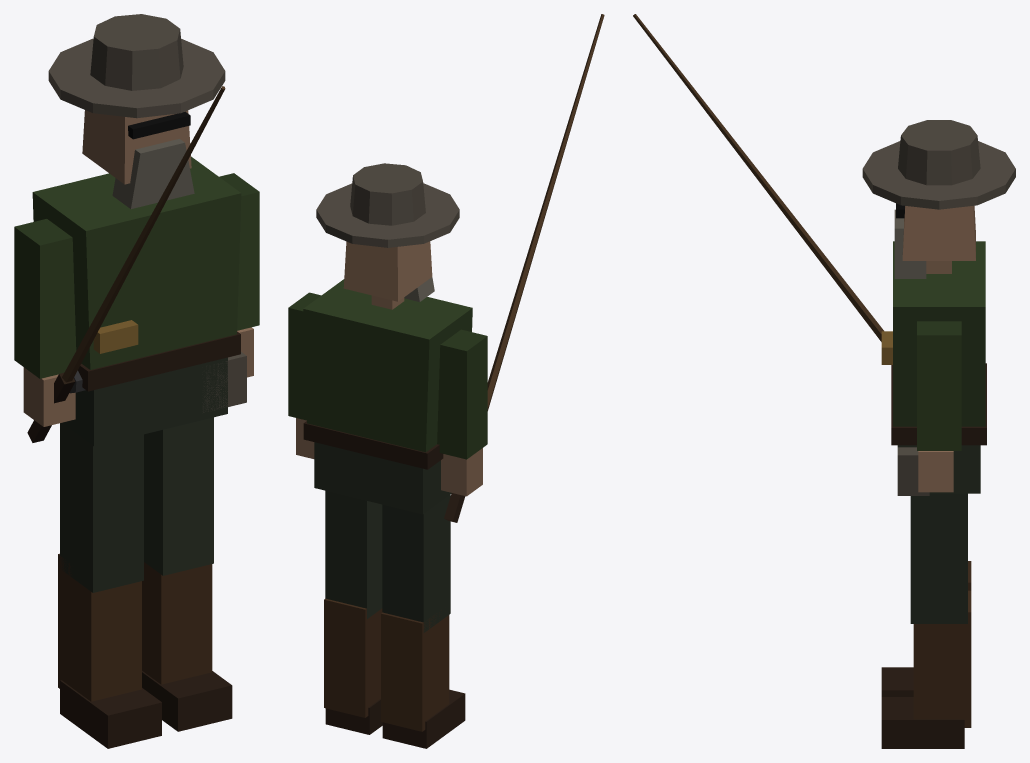
The model's file is tam.glb.
3 renders of one model, left to right at view 1: azimuth 30°, elevation 25°; view 2: azimuth 150°, elevation 25°; view 3: azimuth 270°, elevation 25°, orthographic. The views are drawn at different scales.
Visible parts, largest first — view 1: Torso, Leg_R, Leg_L, Head, Arm_R, Arm_L, Weapon; view 2: Torso, Leg_R, Head, Leg_L, Arm_R, Weapon, Arm_L; view 3: Leg_L, Head, Torso, Arm_L, Weapon, Leg_R.
Part boxes in pixels (x1,y1,x2,y2): Torso: [32, 156, 246, 446]; Leg_R: [58, 423, 161, 748]; Leg_L: [142, 417, 232, 731]; Head: [48, 14, 225, 208]; Arm_R: [14, 219, 76, 426]; Arm_L: [219, 173, 259, 377]; Weapon: [27, 86, 225, 442]; Torso: [303, 279, 472, 514]; Leg_R: [381, 494, 465, 748]; Head: [316, 163, 459, 309]; Leg_L: [324, 490, 382, 734]; Arm_R: [437, 329, 487, 496]; Weapon: [444, 14, 604, 522]; Arm_L: [288, 292, 321, 458]; Leg_L: [881, 493, 971, 748]; Head: [862, 120, 1015, 278]; Torso: [881, 241, 986, 495]; Arm_L: [917, 321, 961, 492]; Weapon: [633, 14, 883, 341]; Leg_R: [881, 561, 971, 696].
Bounding box in the file's own units: 0.69 × 2.32 × 1.2.
